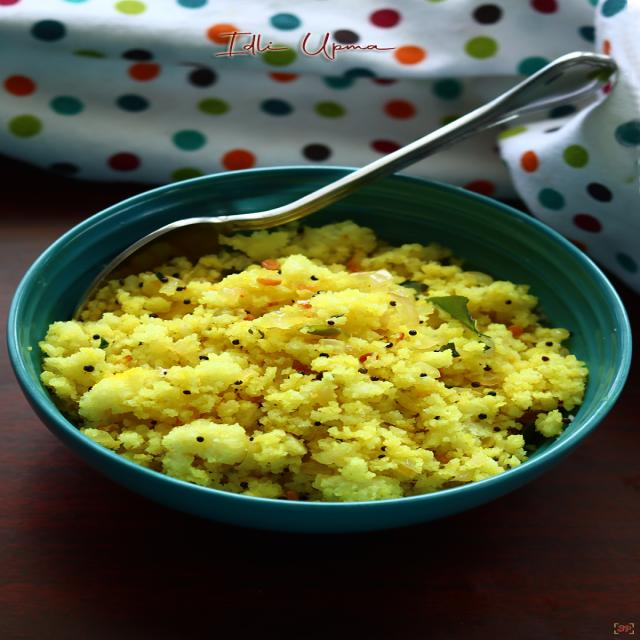UPMA: (40, 221, 588, 500)
